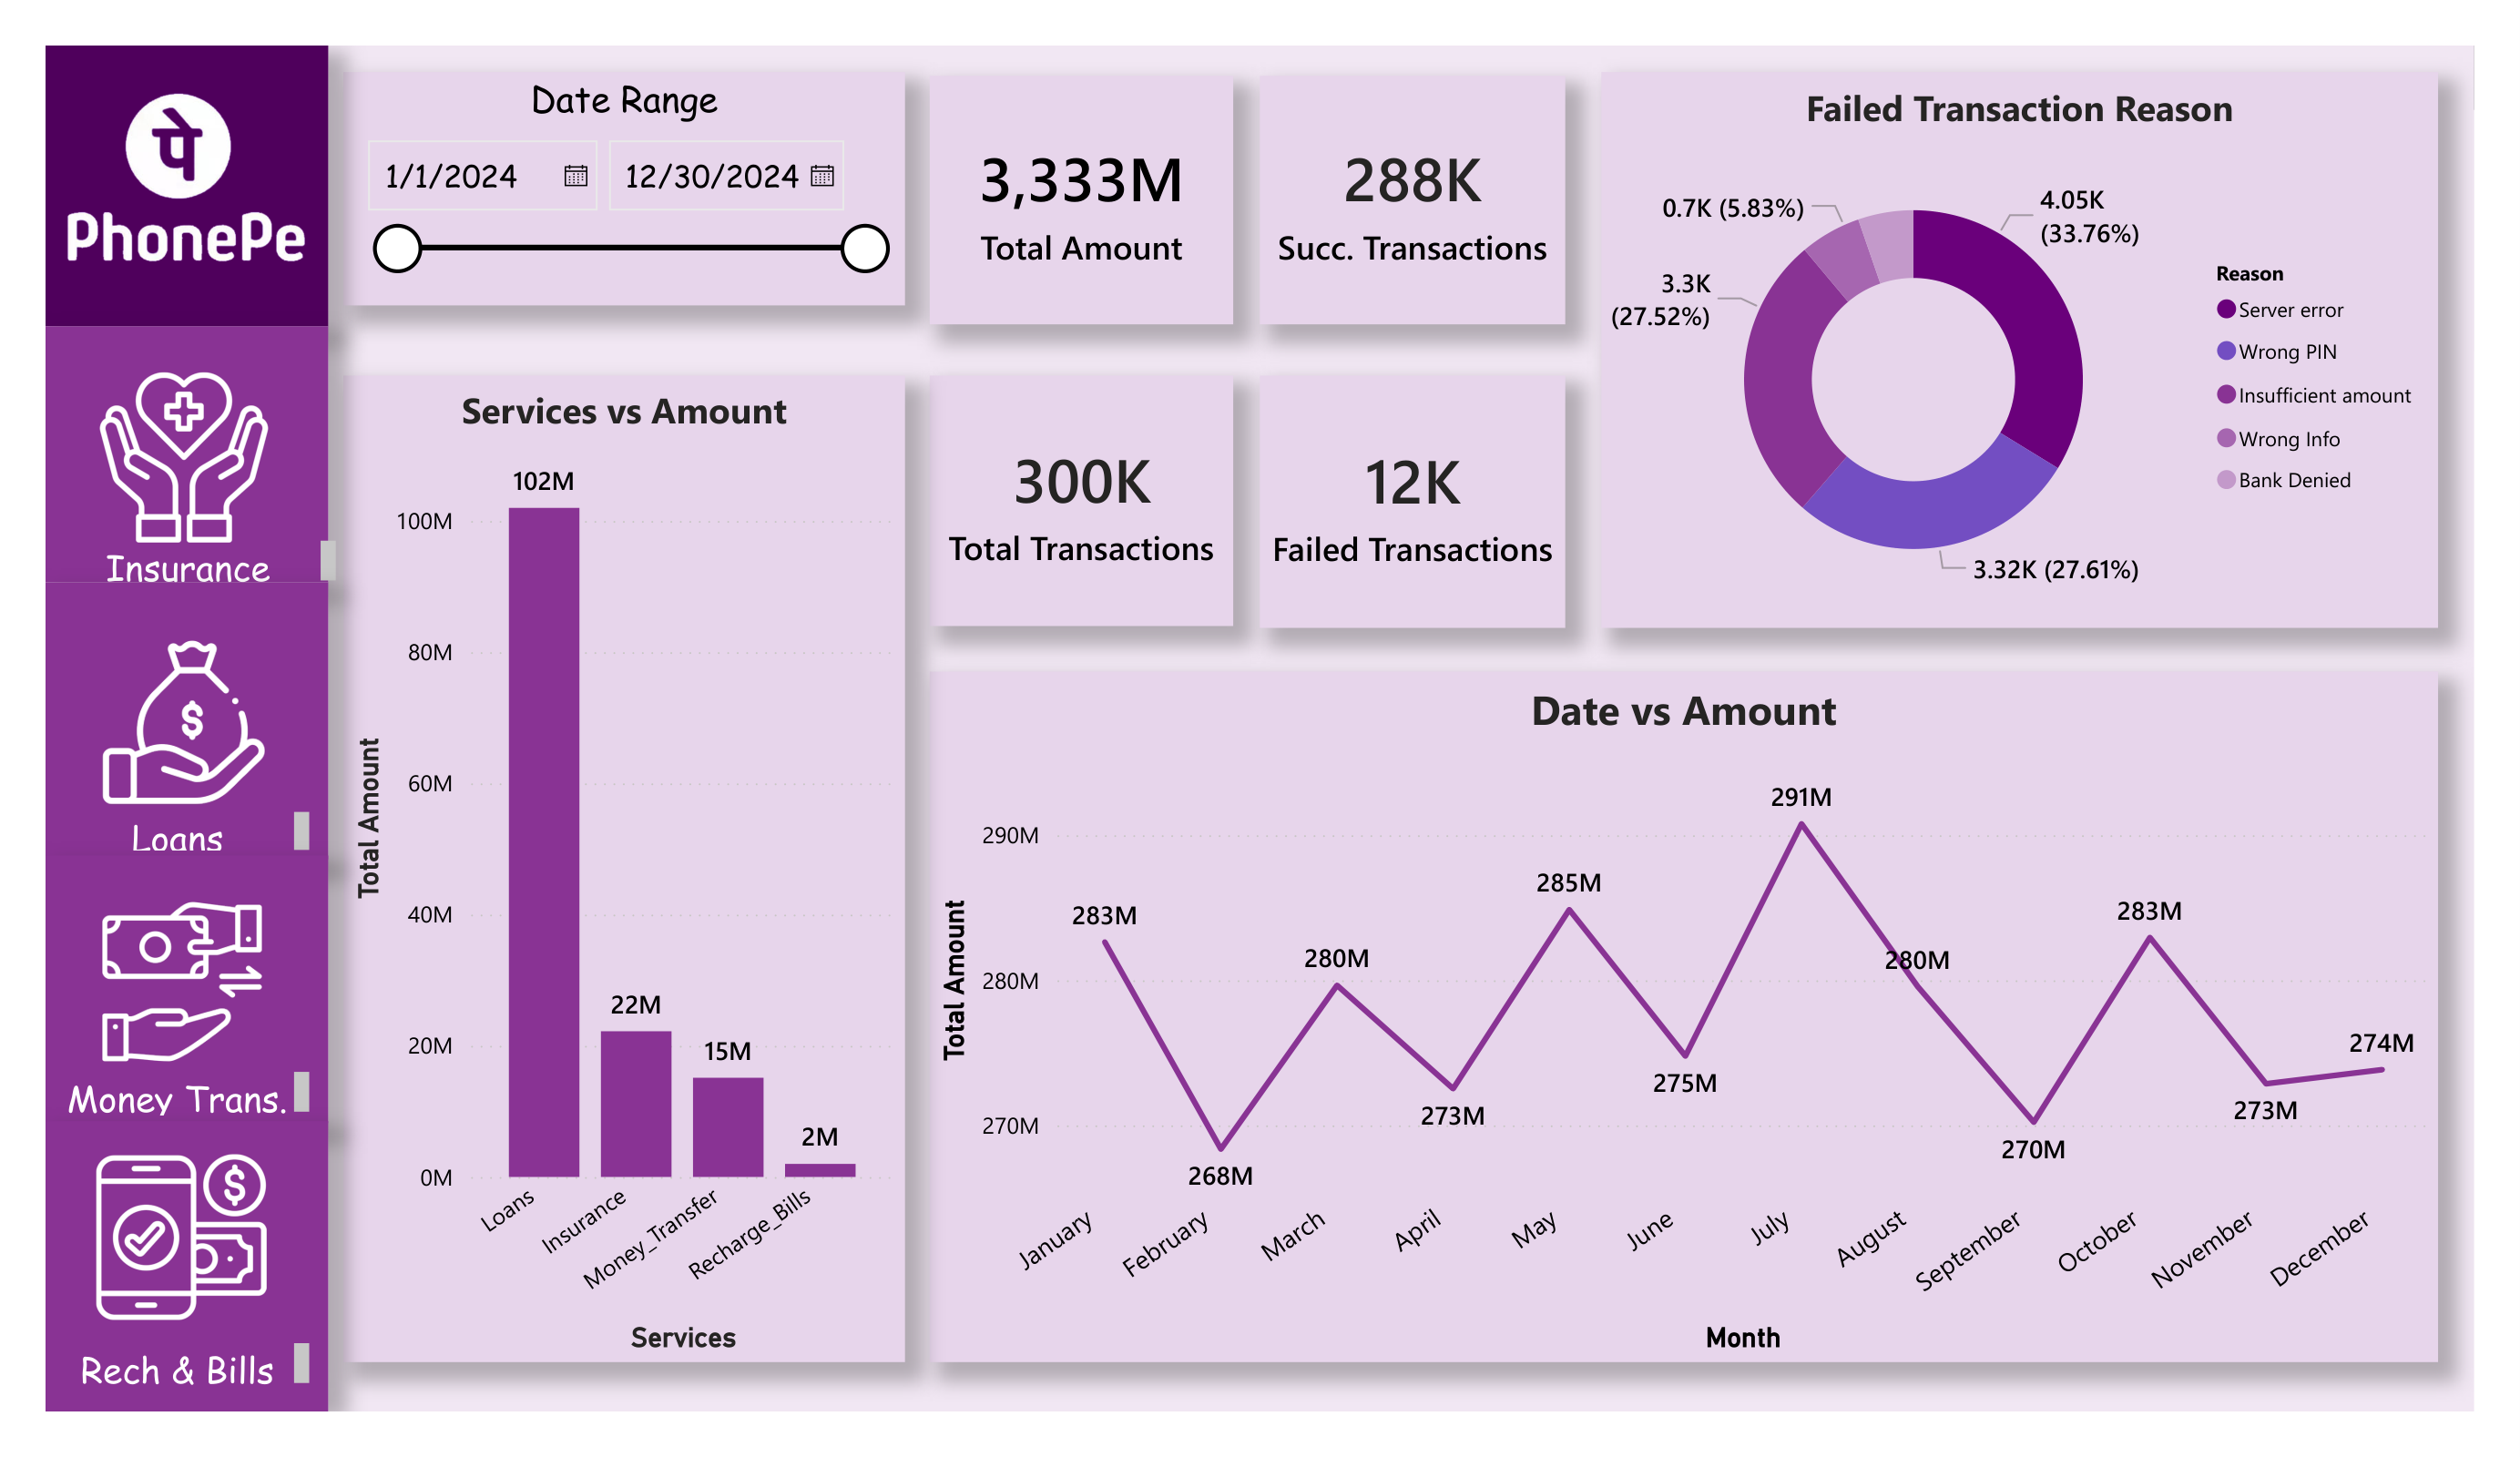

The page's visual inventory and layout, read from the dashboard file:
{"tool":"powerbi","page":{"name":"Home","canvas":[1280,720],"ordinal":0},"visuals":[{"type":"shape","box":[0,0,148.8,147.5],"z":0,"group":"g1"},{"type":"slicer","title":"Date Range","fields":{"Values":["All_Transactions.Date"]},"box":[157.1,14.3,295.7,122.9],"z":0},{"type":"card","title":"Total Transaction Amount","fields":{"Values":["Sum(All_Transactions.Amount)"]},"box":[465.7,15.7,160,131.4],"z":1000},{"type":"shape","box":[0,147.5,148.8,135],"z":1000,"group":"g2"},{"type":"card","title":"Total Transaction Amount","fields":{"Values":["Count(All_Transactions.Transaction_ID)"]},"box":[640,15.7,161.4,131.4],"z":2000},{"type":"shape","box":[0,282.5,148.8,146.1],"z":2000,"group":"g3"},{"type":"card","title":"Total Transaction Amount","fields":{"Values":["Count(All_Transactions.Transaction_ID)"]},"box":[465.7,174.3,160,131.4],"z":3000},{"type":"shape","box":[0,427.1,148.6,141.4],"z":3000,"group":"g4"},{"type":"card","title":"Total Transaction Amount","fields":{"Values":["Count(All_Transactions.Transaction_ID)"]},"box":[640,174.3,161.4,132.9],"z":4000},{"type":"shape","box":[0,567.1,148.6,152.9],"z":4000,"group":"g5"},{"type":"image","box":[6.2,7.5,135,130],"z":5000,"group":"g1"},{"type":"donutChart","title":"Failed Transaction Reason","fields":{"Category":["All_Transactions.Reason"],"Y":["CountNonNull(All_Transactions.Reason)"]},"box":[820,14.3,441.4,292.9],"z":5000},{"type":"image","box":[15,307.1,118.9,95.9],"z":6000,"group":"g3"},{"type":"lineChart","title":"Date vs Amount","fields":{"Category":["All_Transactions.Date.Variation.Date Hierarchy.Month"],"Y":["Sum(All_Transactions.Amount)"]},"box":[465.7,330,795.7,364.3],"z":6000},{"type":"clusteredColumnChart","title":"Services vs Amount","fields":{"Y":["Sum(All_Transactions.Amount)"],"Category":["All_Transactions.Service"]},"box":[157.1,174.3,295.7,520],"z":7000},{"type":"image","box":[23.8,440,96.2,107.5],"z":7000,"group":"g4"},{"type":"group","id":"g1","title":"Group 1","box":[0,0,148.8,147.5],"z":8000},{"type":"image","box":[13.8,577.5,115,101.2],"z":8000,"group":"g5"},{"type":"group","id":"g2","title":"Group 2","box":[0,147.5,157.5,141.2],"z":9000},{"type":"image","box":[18.6,161.4,108.6,110],"z":9000,"group":"g2"},{"type":"textbox","box":[0,255,157.5,33.8],"z":10000,"group":"g2"},{"type":"group","id":"g3","title":"Group 3","box":[0,282.5,148.8,146.2],"z":10000},{"type":"textbox","box":[2.5,398,141.4,30.7],"z":11000,"group":"g3"},{"type":"group","id":"g4","title":"Group 4","box":[0,427.1,148.6,141.6],"z":11000},{"type":"textbox","box":[2.5,536.2,141.2,32.5],"z":12000,"group":"g4"},{"type":"group","id":"g5","title":"Group 5","box":[0,567.1,148.6,152.9],"z":12000},{"type":"actionButton","box":[0,147.5,148.8,141.2],"z":13000},{"type":"textbox","box":[2.5,678.7,141.2,32.5],"z":13000,"group":"g5"},{"type":"actionButton","box":[0,292.5,148.8,136.2],"z":14000},{"type":"actionButton","box":[0,427.5,148.8,142.5],"z":15000},{"type":"actionButton","box":[0,570,148.8,150],"z":16000}]}

Visuals, with their boxes on the page's 1280x720 design canvas (x1, y1, x2, y2). These are canvas units, not pixel positions in the 2520x1457 screenshot, which may show the page scaled, cropped or inside an application window:
shape: <bbox>0, 0, 149, 148</bbox>
"Date Range" slicer: <bbox>157, 14, 453, 137</bbox>
"Total Transaction Amount" card: <bbox>466, 16, 626, 147</bbox>
shape: <bbox>0, 148, 149, 282</bbox>
"Total Transaction Amount" card: <bbox>640, 16, 801, 147</bbox>
shape: <bbox>0, 282, 149, 429</bbox>
"Total Transaction Amount" card: <bbox>466, 174, 626, 306</bbox>
shape: <bbox>0, 427, 149, 568</bbox>
"Total Transaction Amount" card: <bbox>640, 174, 801, 307</bbox>
shape: <bbox>0, 567, 149, 720</bbox>
image: <bbox>6, 8, 141, 138</bbox>
"Failed Transaction Reason" donutChart: <bbox>820, 14, 1261, 307</bbox>
image: <bbox>15, 307, 134, 403</bbox>
"Date vs Amount" lineChart: <bbox>466, 330, 1261, 694</bbox>
"Services vs Amount" clusteredColumnChart: <bbox>157, 174, 453, 694</bbox>
image: <bbox>24, 440, 120, 548</bbox>
"Group 1" group: <bbox>0, 0, 149, 148</bbox>
image: <bbox>14, 578, 129, 679</bbox>
"Group 2" group: <bbox>0, 148, 158, 289</bbox>
image: <bbox>19, 161, 127, 271</bbox>
textbox: <bbox>0, 255, 158, 289</bbox>
"Group 3" group: <bbox>0, 282, 149, 429</bbox>
textbox: <bbox>2, 398, 144, 429</bbox>
"Group 4" group: <bbox>0, 427, 149, 569</bbox>
textbox: <bbox>2, 536, 144, 569</bbox>
"Group 5" group: <bbox>0, 567, 149, 720</bbox>
actionButton: <bbox>0, 148, 149, 289</bbox>
textbox: <bbox>2, 679, 144, 711</bbox>
actionButton: <bbox>0, 292, 149, 429</bbox>
actionButton: <bbox>0, 428, 149, 570</bbox>
actionButton: <bbox>0, 570, 149, 720</bbox>
